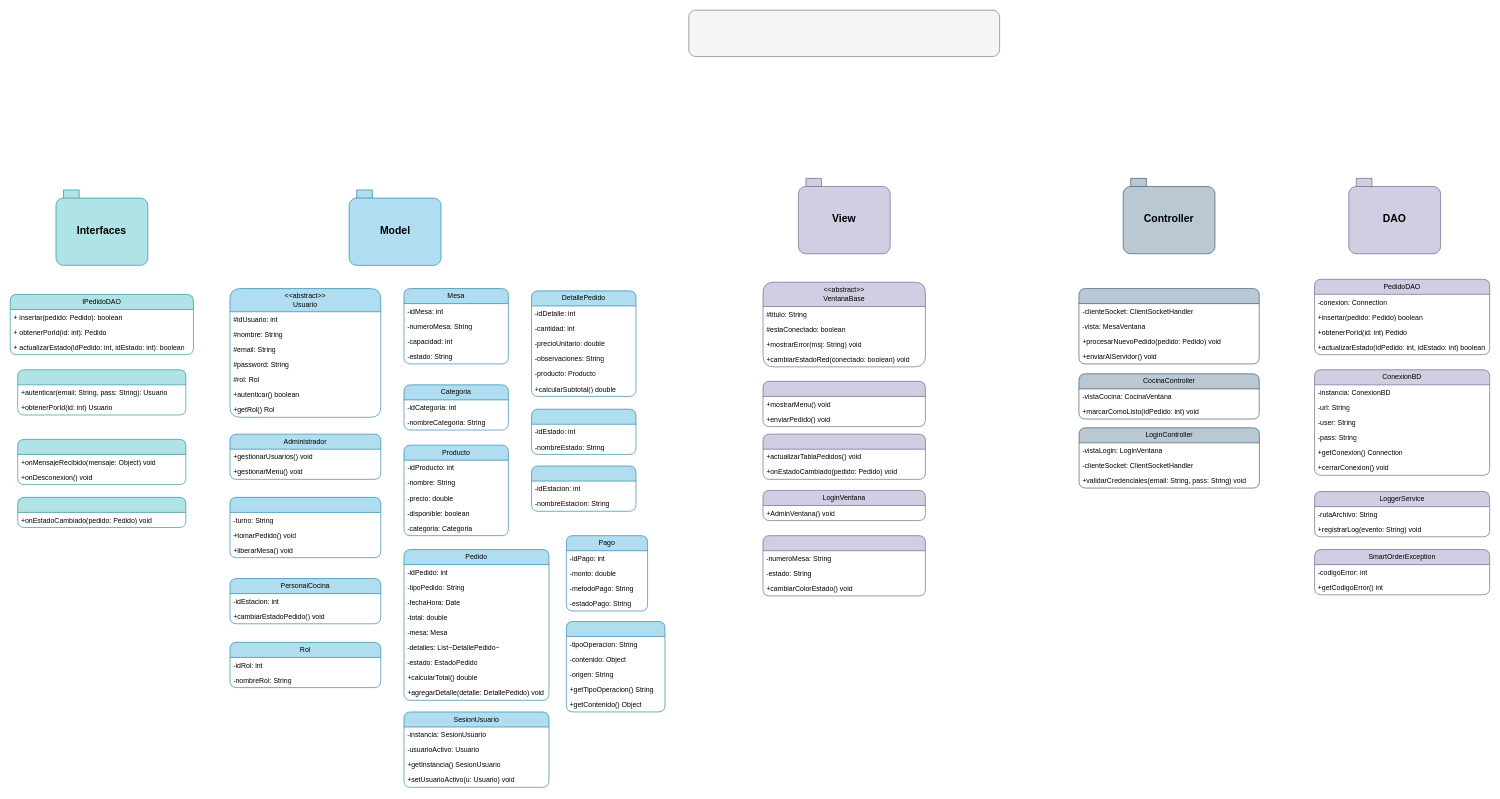
Image size: 1500x799. Some labels were removed from this diagram. The box of each missing label's shape, as (x1, y1, x2, y2) in pixels:
CocinaVentana: (762, 434, 925, 479)
ComponenteMesaGUI: (762, 535, 925, 596)
EstacionPreparacion: (531, 465, 636, 511)
EstadoPedido: (531, 409, 636, 454)
IObserverPedido: (17, 497, 186, 528)
ISocketListener: (17, 439, 186, 485)
IUsuarioDAO: (17, 369, 186, 415)
MensajeSocket: (566, 621, 665, 712)
MesaVentana: (762, 381, 925, 427)
PedidoController: (1078, 288, 1259, 364)
PersonalAtencion: (229, 497, 381, 558)
Propuesta #1 de digrama: (688, 10, 1000, 57)
